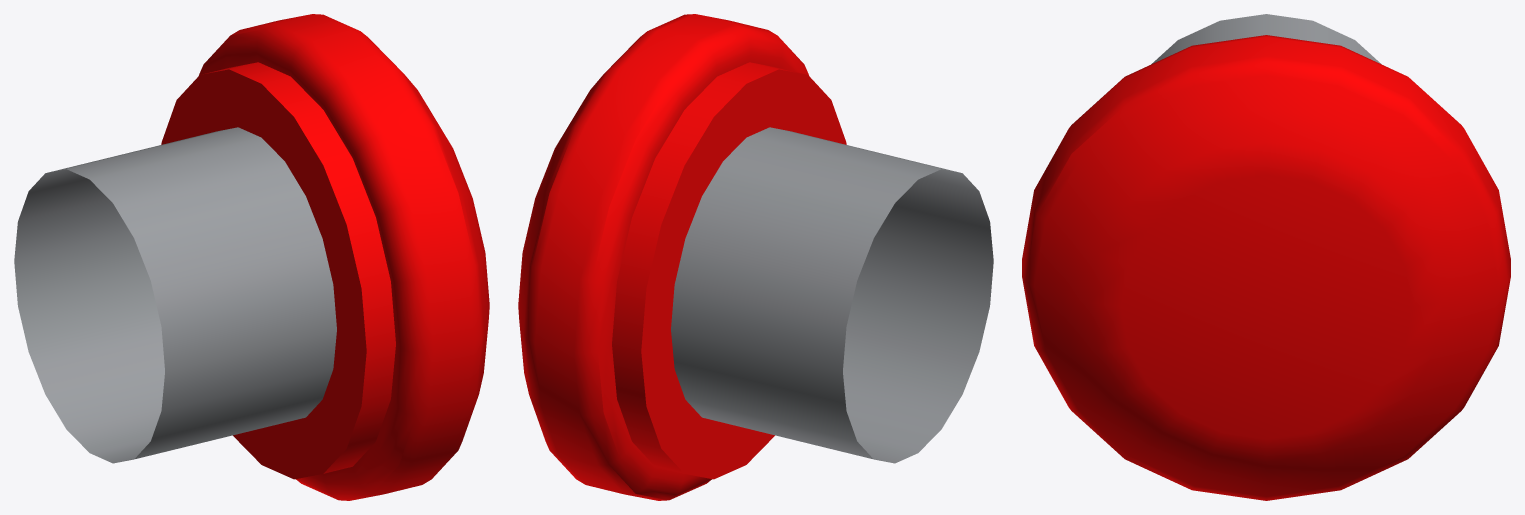
The model's file is buttonRed.fbx.
The picture shows the model from 3 angles, left to right: view 1: azimuth 30°, elevation 25°; view 2: azimuth 150°, elevation 25°; view 3: azimuth 270°, elevation 25°; orthographic projection.
Parts seen in each view (by area): view 1: pCylinder2; view 2: pCylinder2; view 3: pCylinder2.
Boxes of the visible parts, x1,y1,x2,y2 form: pCylinder2: (14, 14, 489, 500); pCylinder2: (518, 14, 993, 500); pCylinder2: (1022, 14, 1510, 500).
Size of the model in its own units: 12.6 by 16.62 by 16.62.
2 materials, 2 textured.
